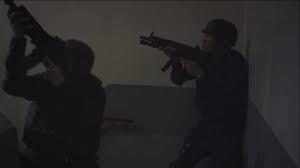rifle: (3, 0, 66, 78), (138, 32, 206, 73)
